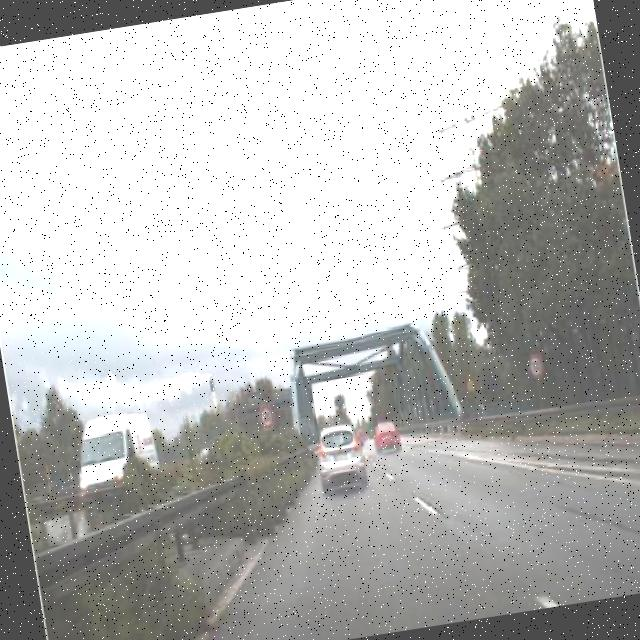Ograniczenie predkosci do 100: (256, 402, 278, 432), (526, 354, 548, 381)
